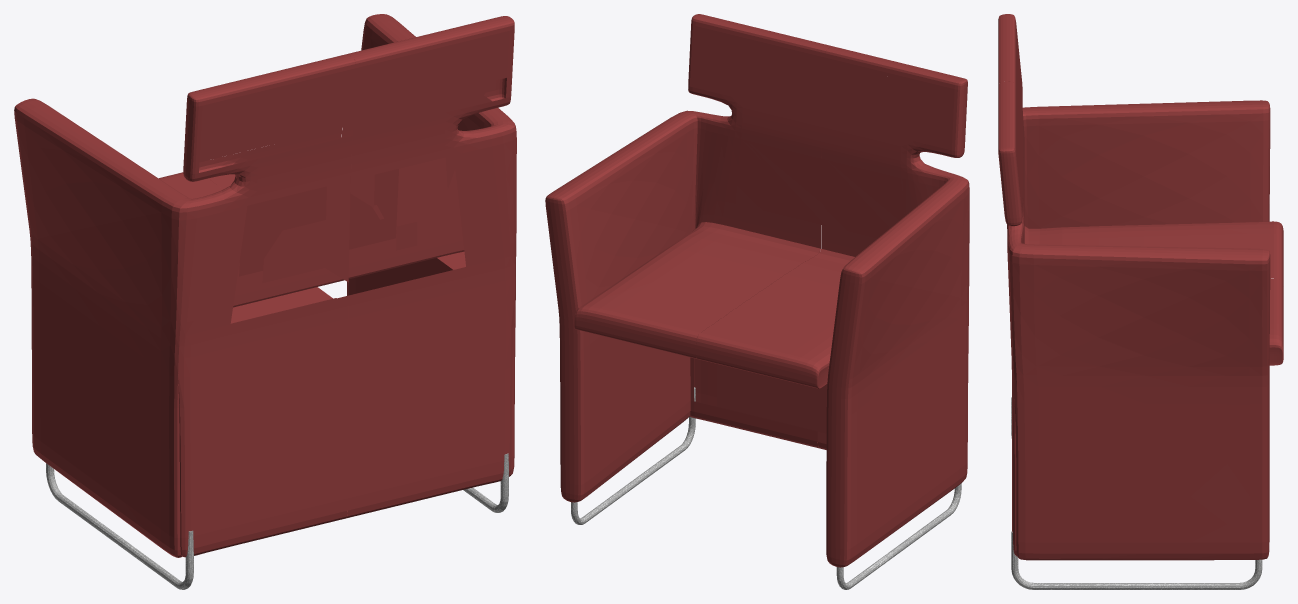
3 views of the same model, side by side, from view 1: azimuth 30°, elevation 25°; view 2: azimuth 150°, elevation 25°; view 3: azimuth 270°, elevation 25° (orthographic). The views are drawn at different scales.
Parts seen in each view (by area): view 1: mesh1_mesh1-geometry, mesh7_mesh7-geometry, mesh8_mesh8-geometry; view 2: mesh1_mesh1-geometry, mesh8_mesh8-geometry, mesh7_mesh7-geometry; view 3: mesh1_mesh1-geometry, mesh8_mesh8-geometry.
Part boxes in pixels (bbox=[...]): mesh1_mesh1-geometry: bbox=[14, 14, 516, 557]; mesh7_mesh7-geometry: bbox=[46, 463, 193, 589]; mesh8_mesh8-geometry: bbox=[463, 453, 508, 512]; mesh1_mesh1-geometry: bbox=[545, 14, 969, 567]; mesh8_mesh8-geometry: bbox=[571, 387, 695, 524]; mesh7_mesh7-geometry: bbox=[836, 483, 961, 589]; mesh1_mesh1-geometry: bbox=[998, 14, 1283, 560]; mesh8_mesh8-geometry: bbox=[1011, 531, 1262, 589].
Size of the model in its own units: 0.5591 by 0.7152 by 0.4195.
